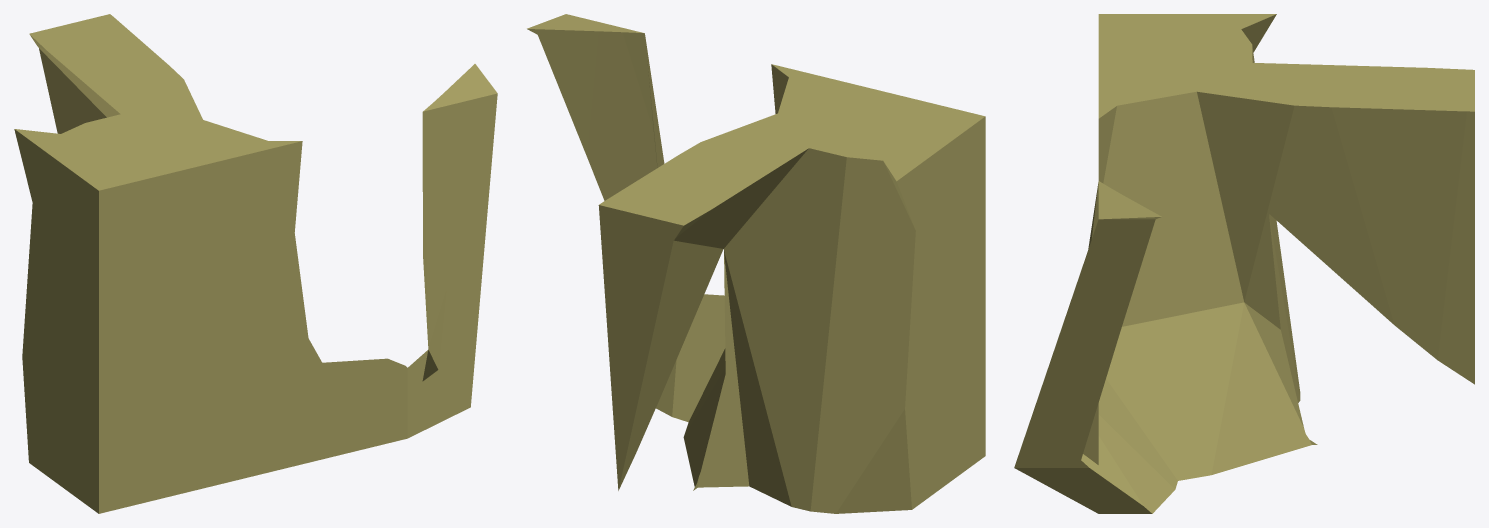
The model's file is Destroyed_box-col4.glb.
The picture shows the model from 3 angles, left to right: view 1: azimuth 30°, elevation 25°; view 2: azimuth 150°, elevation 25°; view 3: azimuth 270°, elevation 25°; orthographic projection. The views are drawn at different scales.
Visible parts, largest first — view 1: Destroyed_box-col4; view 2: Destroyed_box-col4; view 3: Destroyed_box-col4.
Part boxes in pixels (<box>): Destroyed_box-col4: <box>14,14,497,513</box>; Destroyed_box-col4: <box>527,14,985,513</box>; Destroyed_box-col4: <box>1014,14,1474,513</box>.
Bounding box in the file's own units: 2.63 × 2.04 × 2.45.
